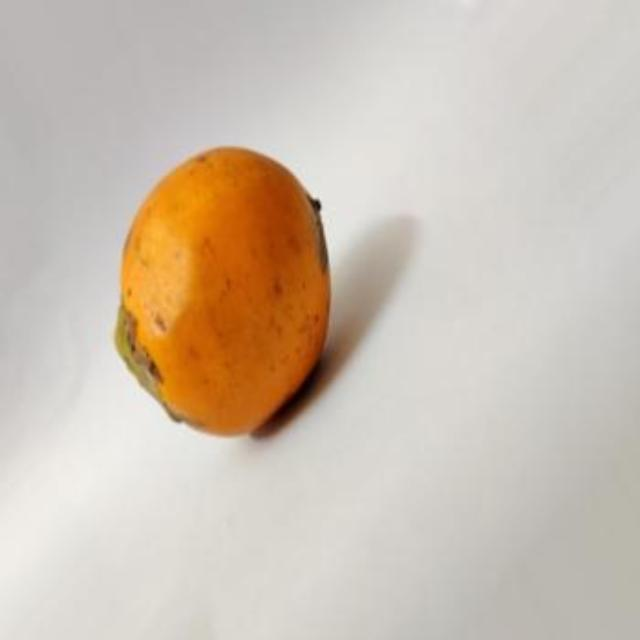good: (113, 146, 331, 441)
